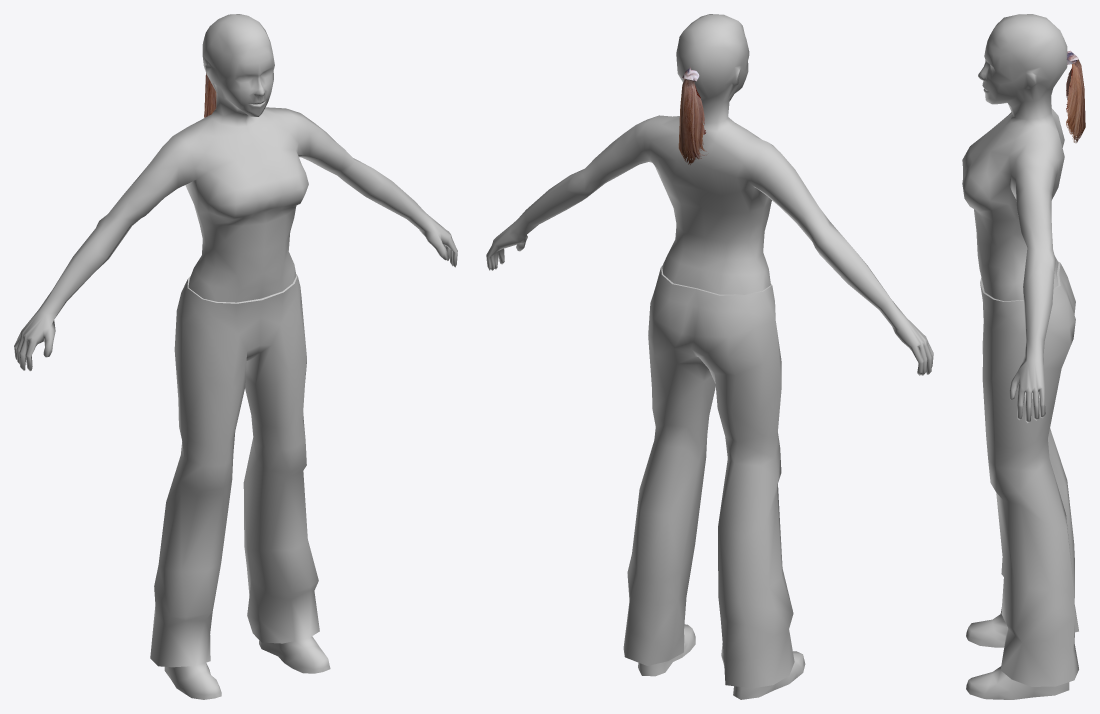
File: sportive04_mid.FBX
The picture shows the model from 3 angles, left to right: view 1: azimuth 30°, elevation 25°; view 2: azimuth 150°, elevation 25°; view 3: azimuth 270°, elevation 25°; orthographic projection.
Visible parts, largest first — view 1: sportive04_f_mediumpoly; view 2: sportive04_f_mediumpoly; view 3: sportive04_f_mediumpoly.
Boxes of the visible parts, bbox=[...] form: sportive04_f_mediumpoly: bbox=[14, 14, 457, 699]; sportive04_f_mediumpoly: bbox=[486, 14, 933, 699]; sportive04_f_mediumpoly: bbox=[962, 14, 1085, 699].
Size of the model in its own units: 121 by 171 by 29.51.
